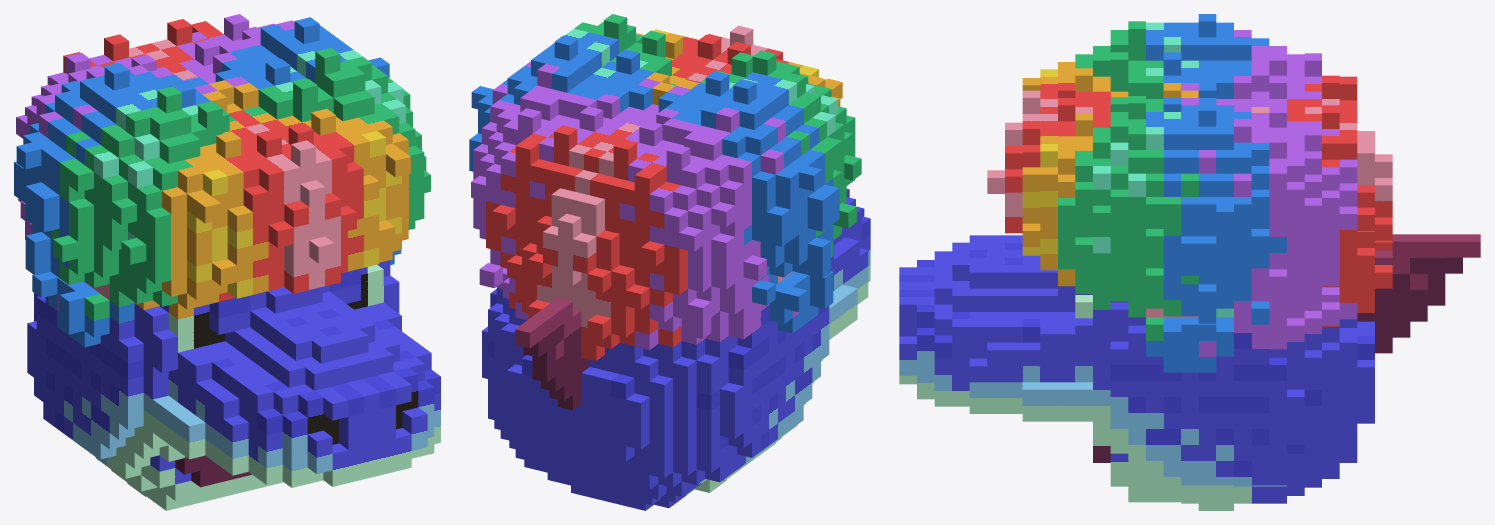
The model's file is clown wig_cool dude glasses.gltf.
3 views of the same model, side by side, from view 1: azimuth 30°, elevation 25°; view 2: azimuth 150°, elevation 25°; view 3: azimuth 270°, elevation 25° (orthographic). The views are drawn at different scales.
Parts seen in each view (by area): view 1: C07_H_ClownW_CoolD_3DG_RainbowShade-Mesh; view 2: C07_H_ClownW_CoolD_3DG_RainbowShade-Mesh; view 3: C07_H_ClownW_CoolD_3DG_RainbowShade-Mesh.
Part boxes in pixels (x1,y1,x2,y2): C07_H_ClownW_CoolD_3DG_RainbowShade-Mesh: (14,14,440,510); C07_H_ClownW_CoolD_3DG_RainbowShade-Mesh: (469,14,870,510); C07_H_ClownW_CoolD_3DG_RainbowShade-Mesh: (899,14,1480,510).
Bounding box in the file's own units: 23 × 26 × 33.
Materials: 1 (1 with a texture image).
